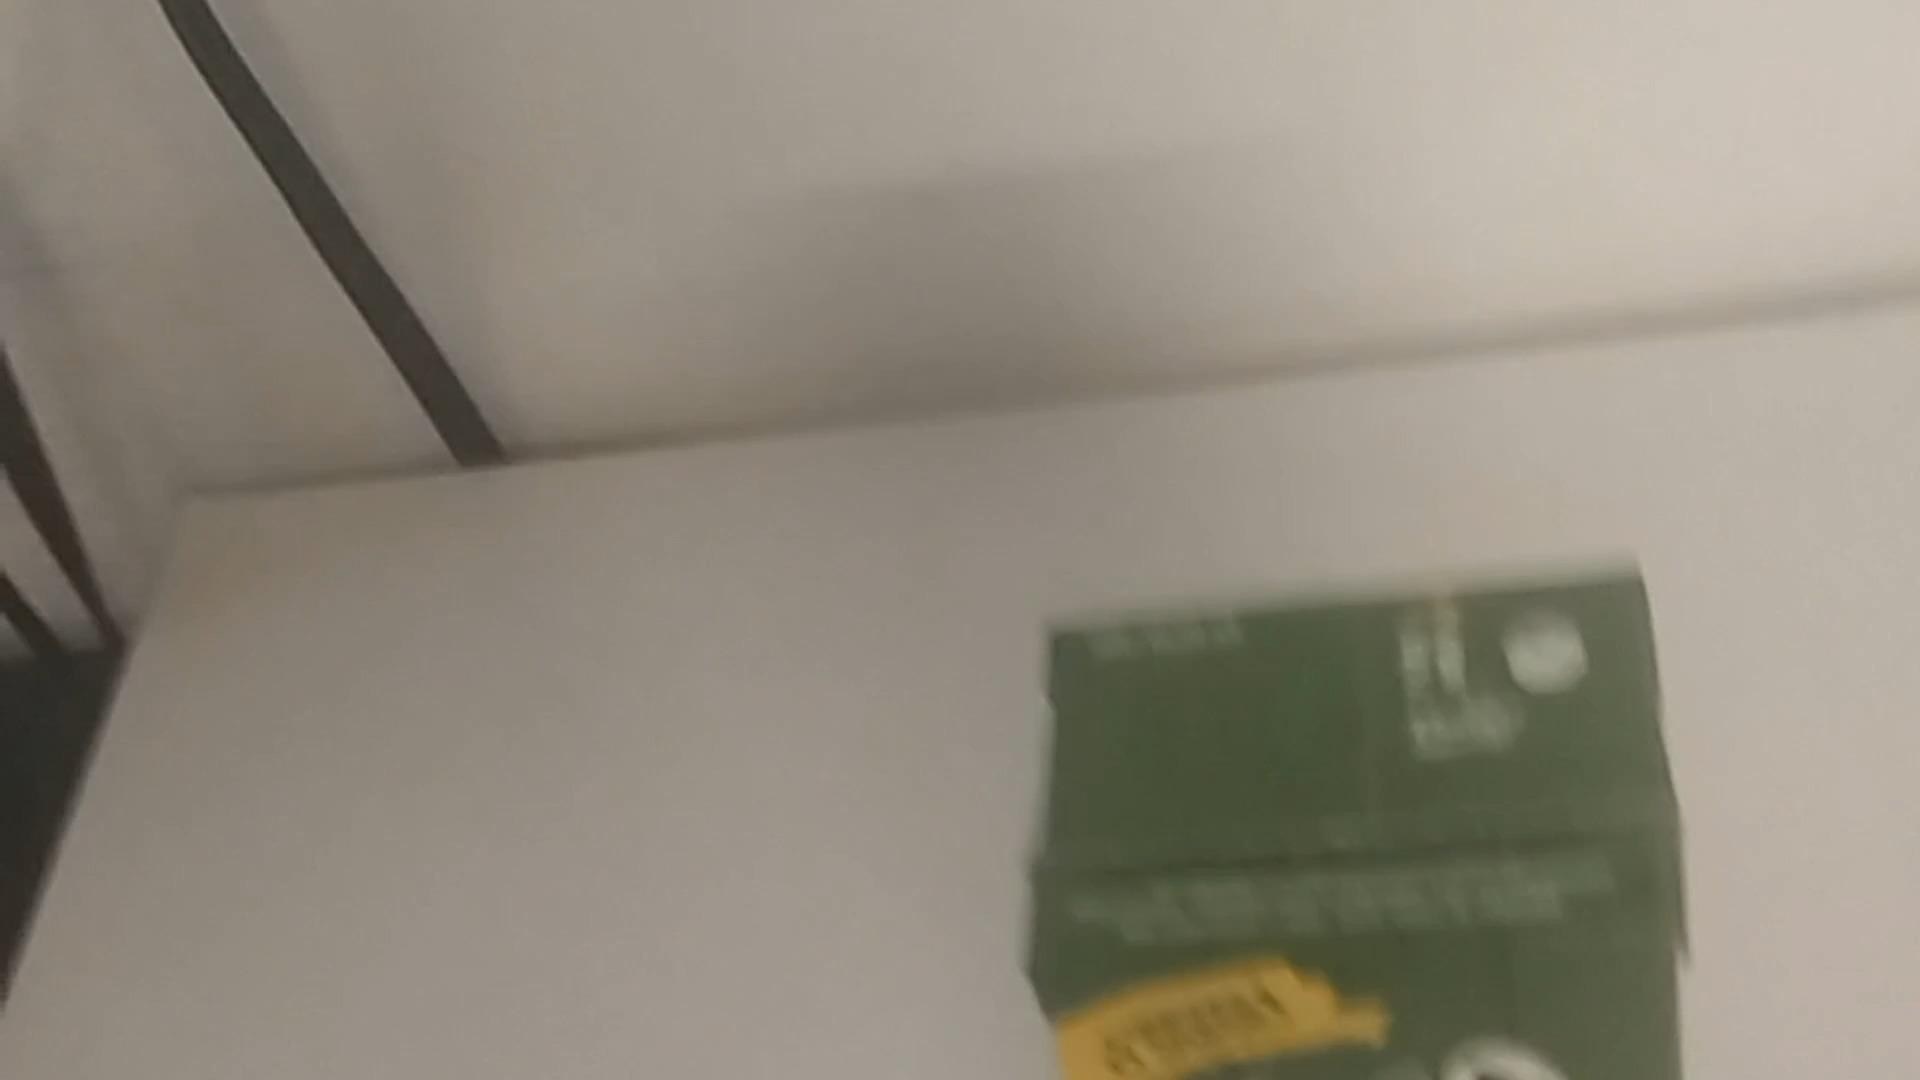coco: (1012, 568, 1718, 1080)
